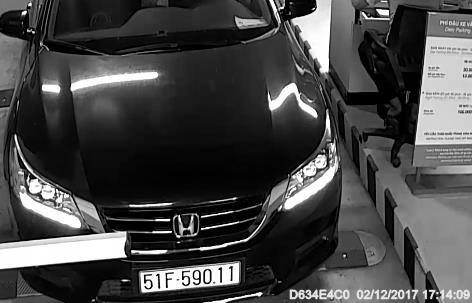License-plate: (124, 254, 256, 300)
